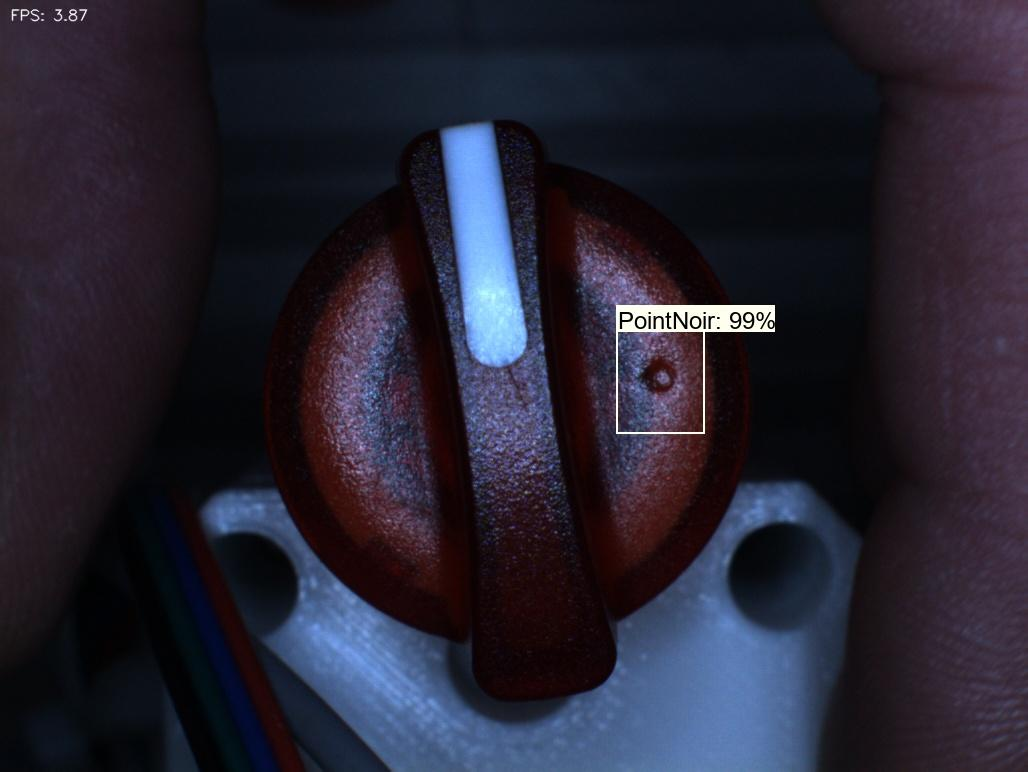Choc: (620, 337, 702, 424)
